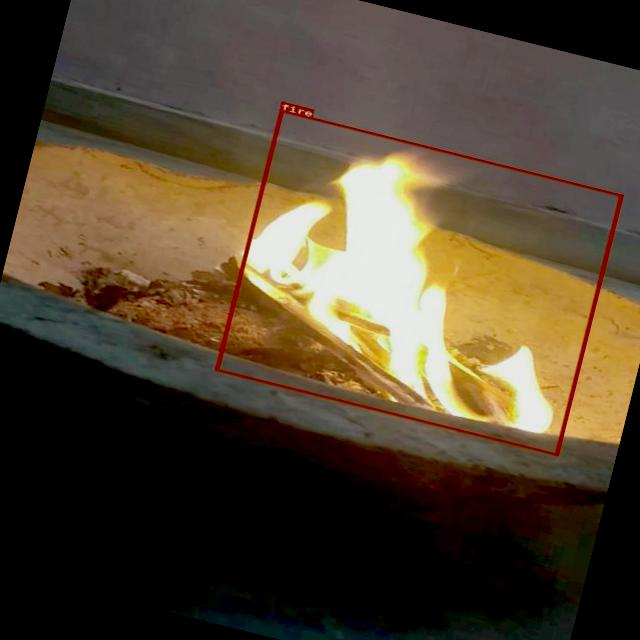fire: (212, 108, 622, 456)
